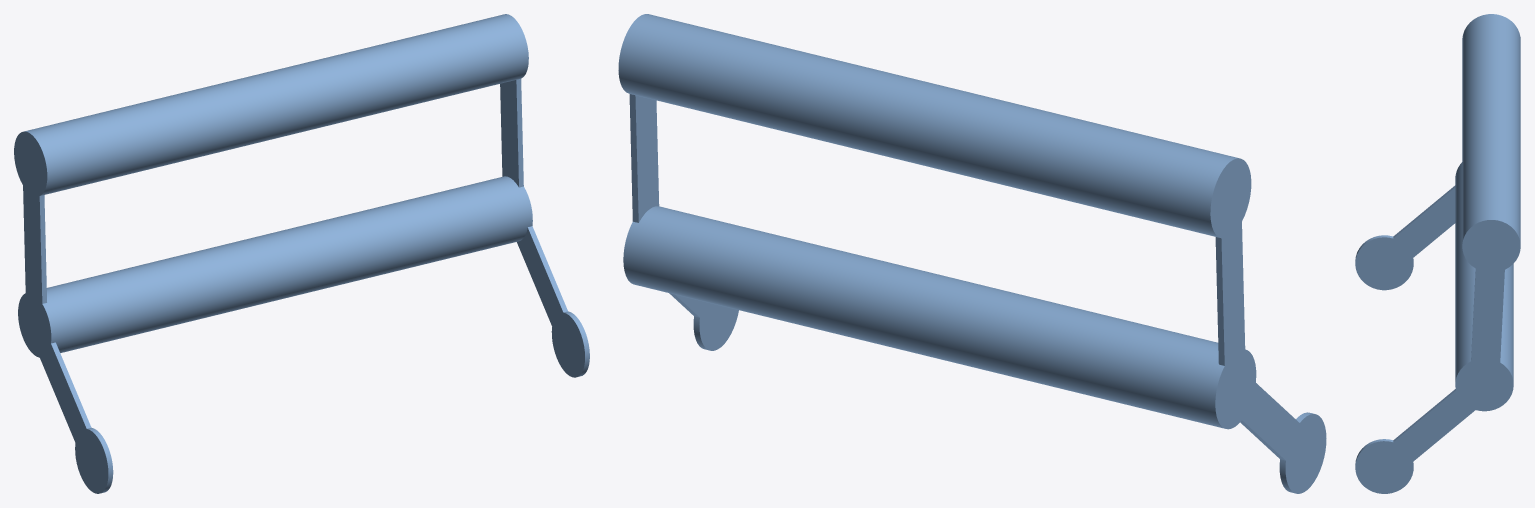
The picture shows the model from 3 angles, left to right: view 1: azimuth 30°, elevation 25°; view 2: azimuth 150°, elevation 25°; view 3: azimuth 270°, elevation 25°; orthographic projection. The views are drawn at different scales.
Visible parts, largest first — view 1: Rollers; view 2: Rollers; view 3: Rollers.
Boxes of the visible parts, bbox=[...] form: Rollers: bbox=[14, 14, 589, 493]; Rollers: bbox=[618, 14, 1326, 493]; Rollers: bbox=[1355, 14, 1520, 493].
Bounding box in the file's own units: 0.635 × 0.3944 × 0.2157.
